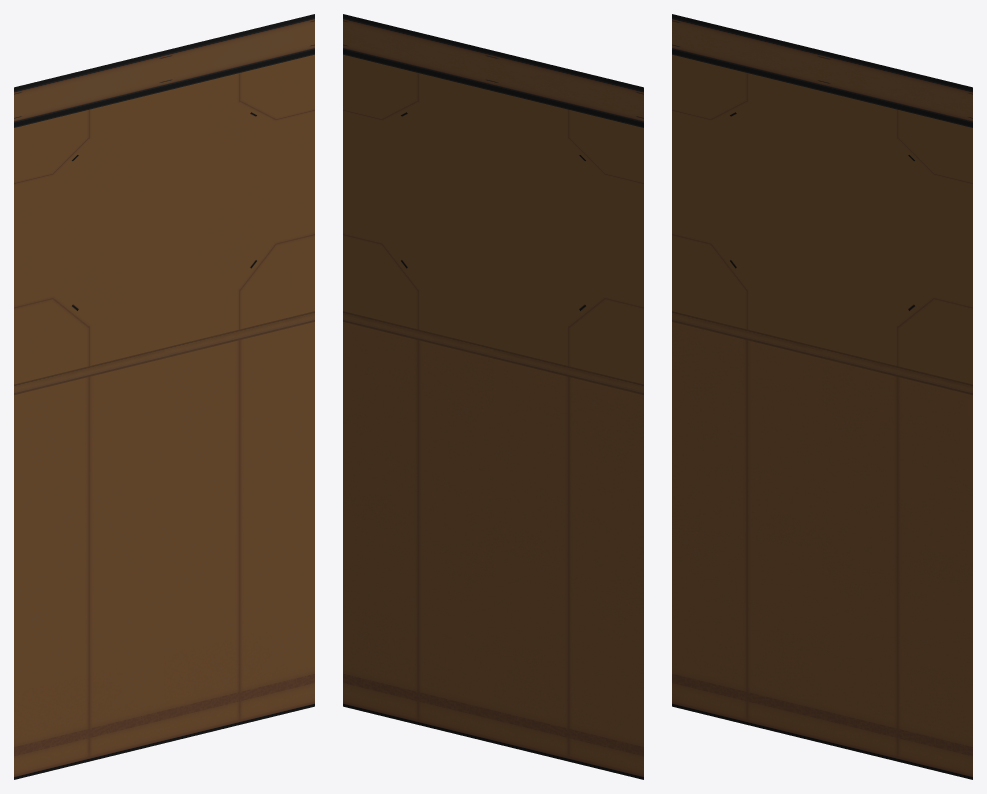
File: Walls2.fbx
The picture shows the model from 3 angles, left to right: view 1: azimuth 30°, elevation 25°; view 2: azimuth 150°, elevation 25°; view 3: azimuth 330°, elevation 25°; orthographic projection.
Parts seen in each view (by area): view 1: WallVariation11, WallVariation12; view 2: WallVariation11, WallVariation12; view 3: WallVariation11, WallVariation12.
Part boxes in pixels (x1,y1,x2,y2): WallVariation11: (14,311,314,779); WallVariation12: (14,14,314,384); WallVariation11: (343,311,643,779); WallVariation12: (343,14,643,384); WallVariation11: (672,311,972,779); WallVariation12: (672,14,972,384).
Size of the model in its own units: 288 by 635 by 4.73e-05.
